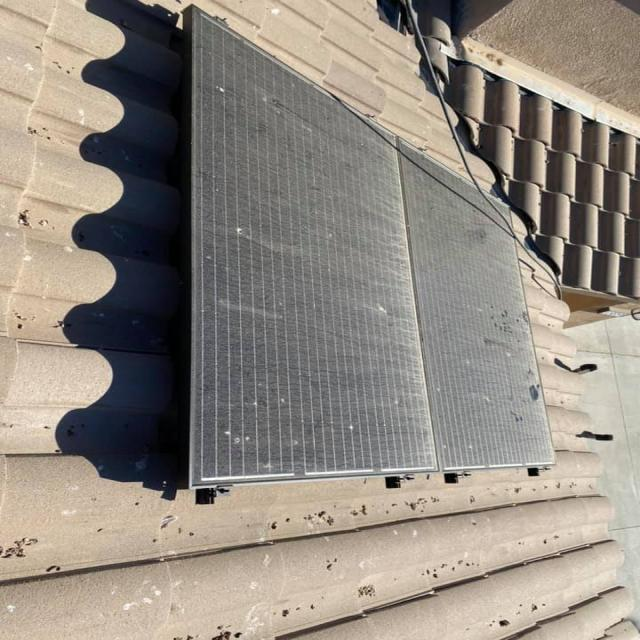dust-solar-panel: (184, 7, 557, 488)
